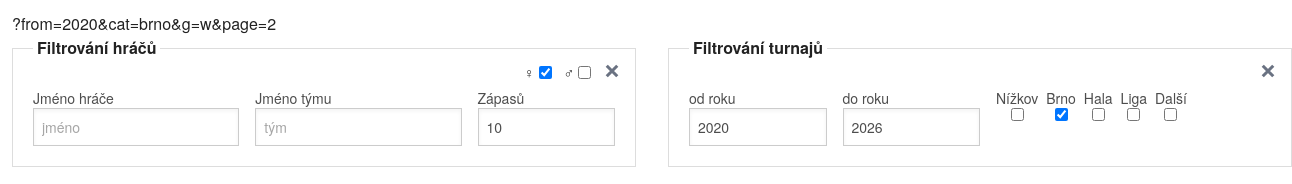
Test: tournament reset clears only tournament params
Click the button named "Obnovit výchozí filtr turnajů": (1268, 71) [1257, 60, 1279, 82]
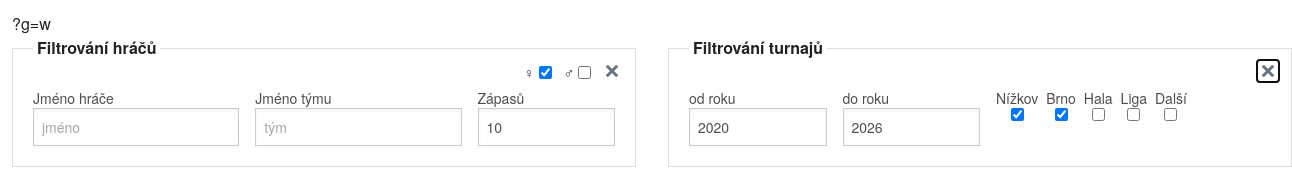
Now the text with test id "search" reads "?g=w", box [12, 12, 51, 35]
